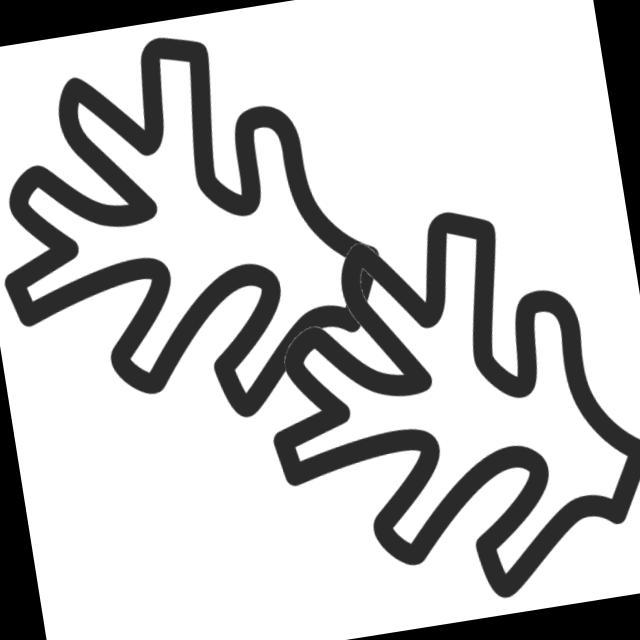coral: (1, 4, 409, 468), (233, 186, 640, 640)
